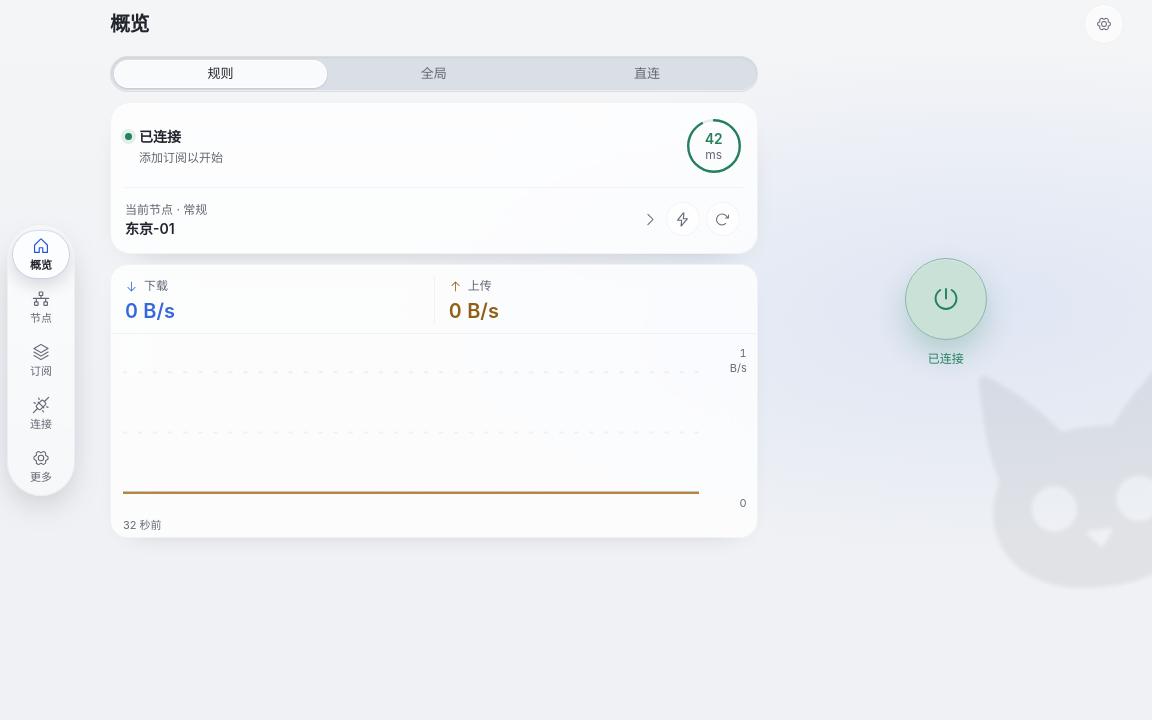
Test: 失败测速不保留成功圆弧，切换节点后的过期结果也不弹提示
The width and height of the screenshot is (1152, 720).
Later steps or results of the test are not shown.
Step 1. Click the button with class "android-latency-button" → (714, 146), box [685,117,743,175]
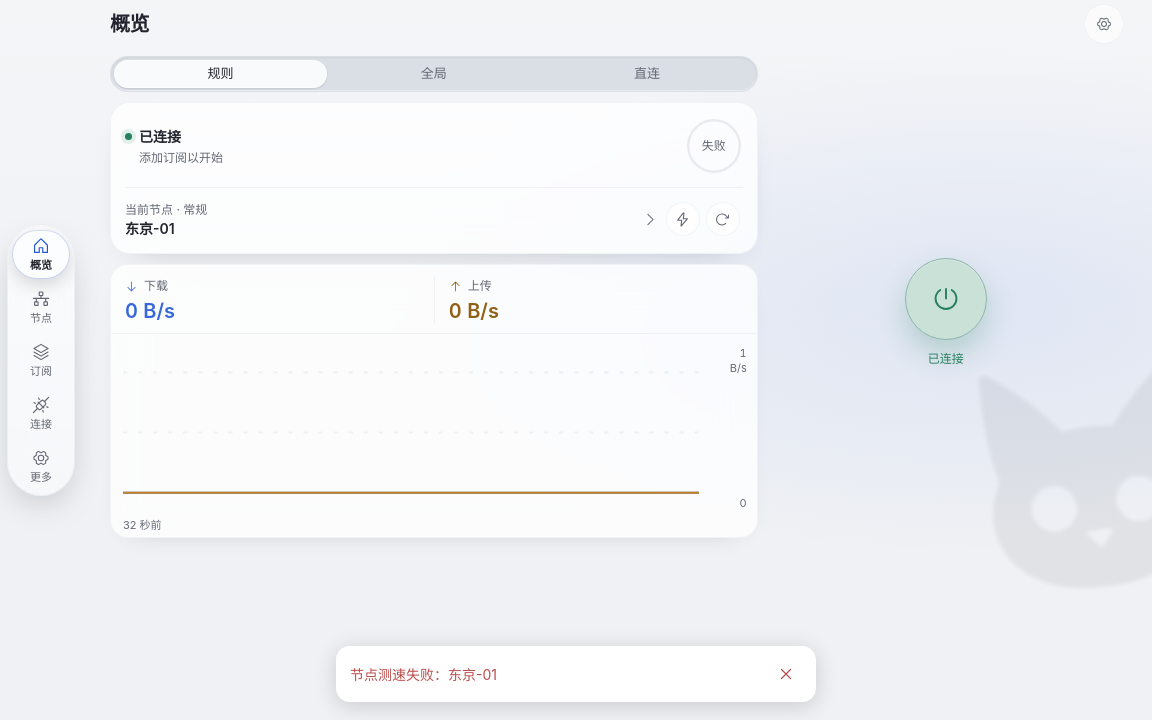
Expected: the button with class "android-latency-button" reads "失败", [685,117,743,175]
